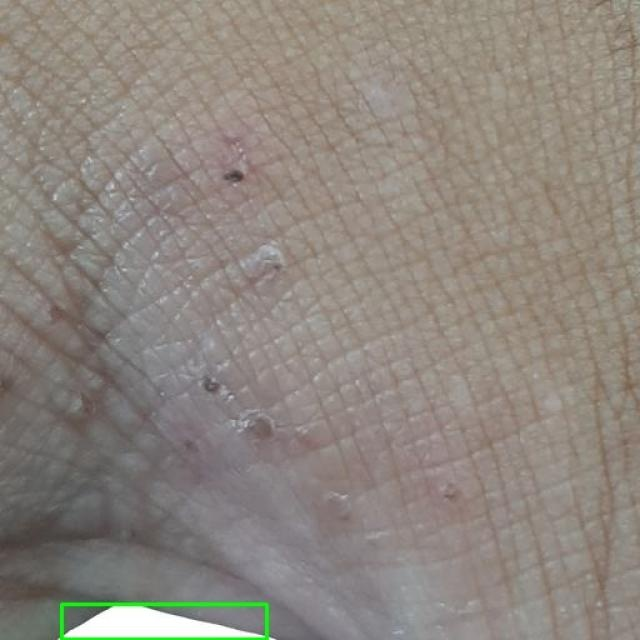Scabies: (61, 604, 268, 639)
